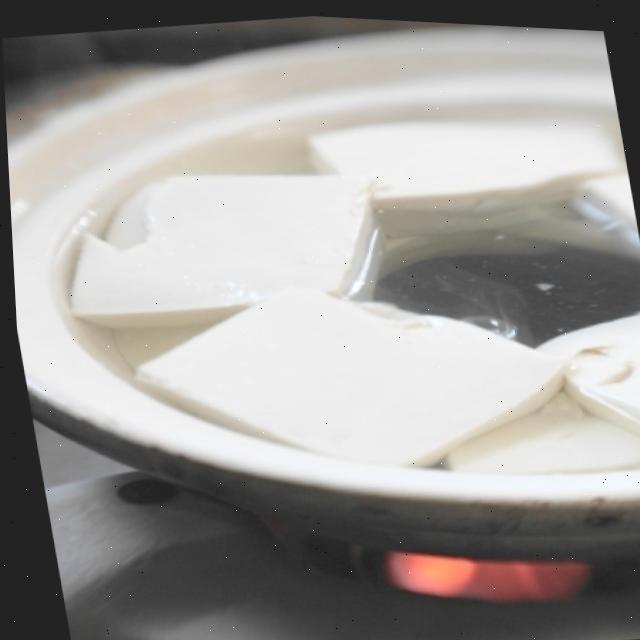豆腐料理: (1, 14, 640, 558)
